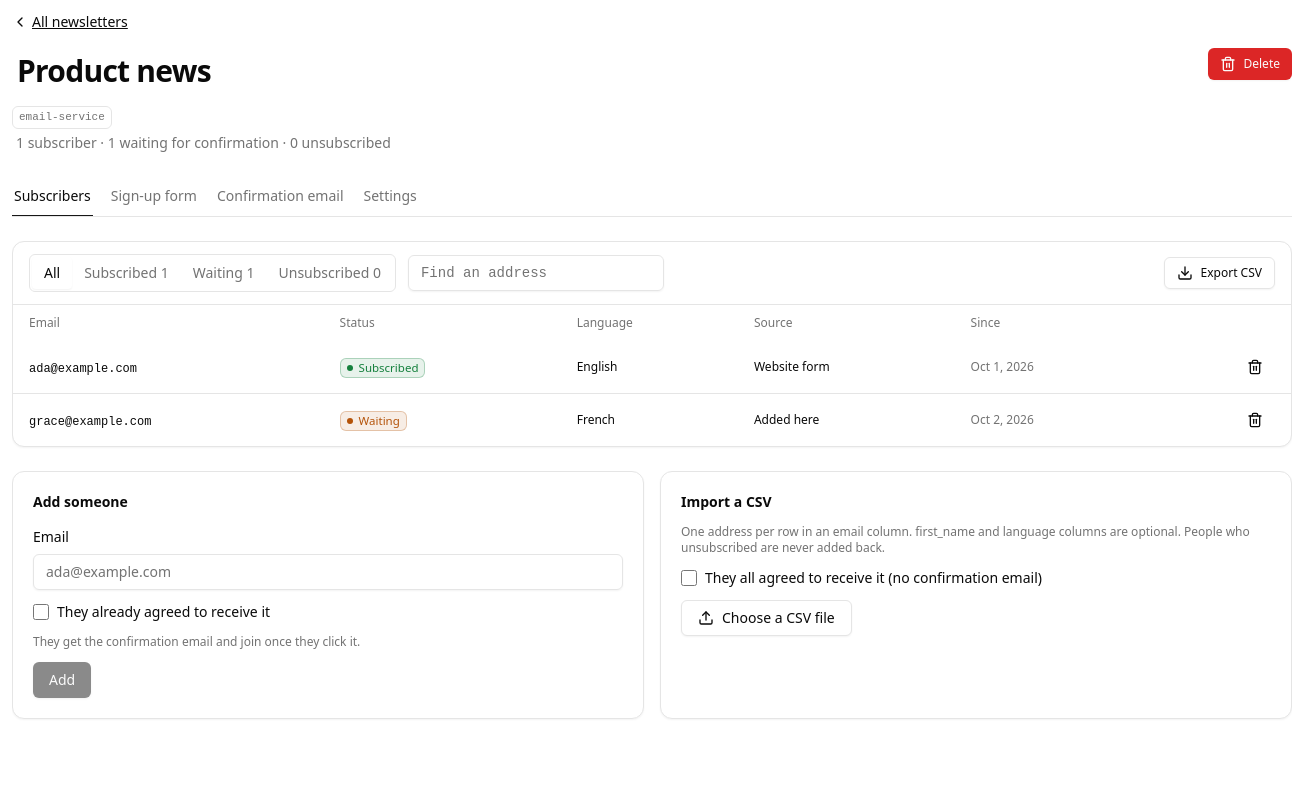
Test: EmailNewsletterPage › lists subscribers and adds someone with a confirmation email
Expected: the text "ada@example.com" is shown, left=29, top=362, right=137, bottom=376
Expected: the text "grace@example.com" is shown, left=29, top=414, right=151, bottom=428
Type "linus@example.com" into the field labelled "Email" at (328,572), box left=33, top=554, right=623, bottom=590
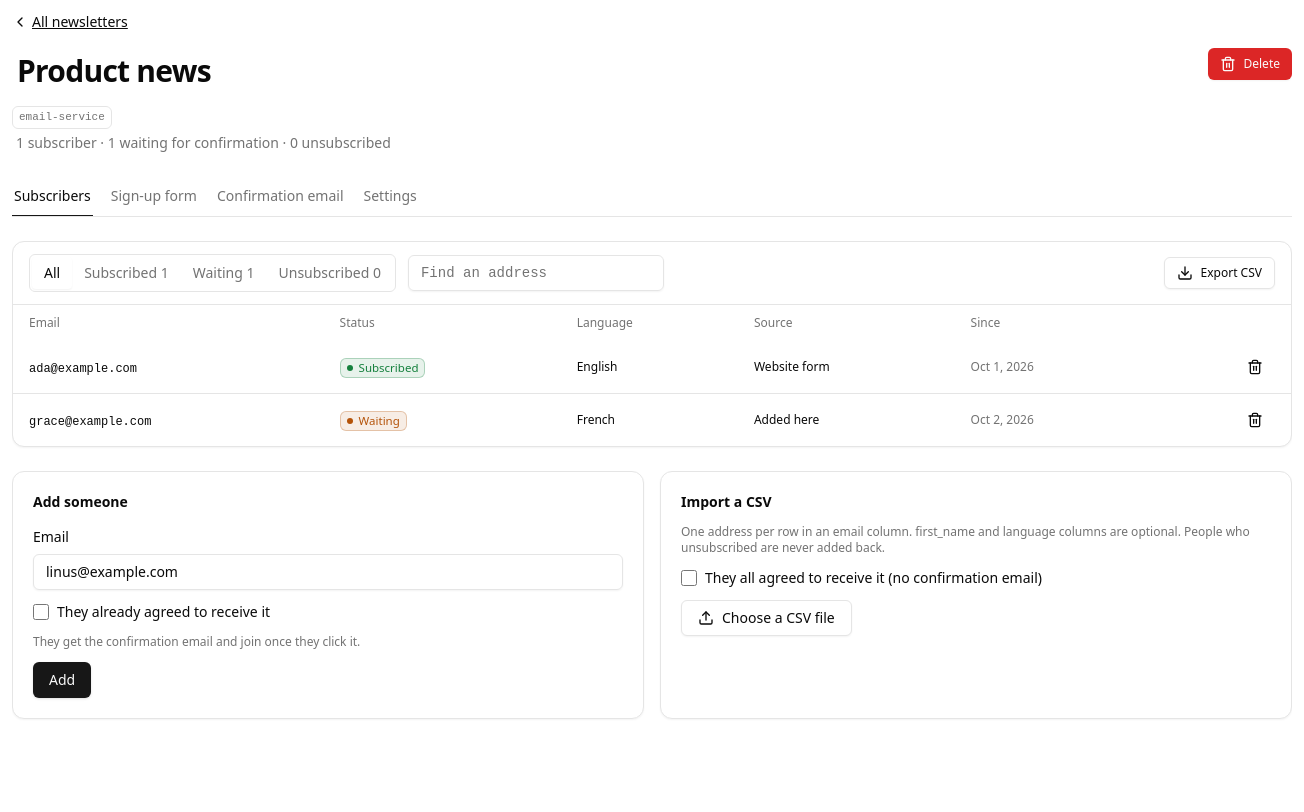
Click the button "Add" at (62,680), box left=33, top=662, right=91, bottom=698
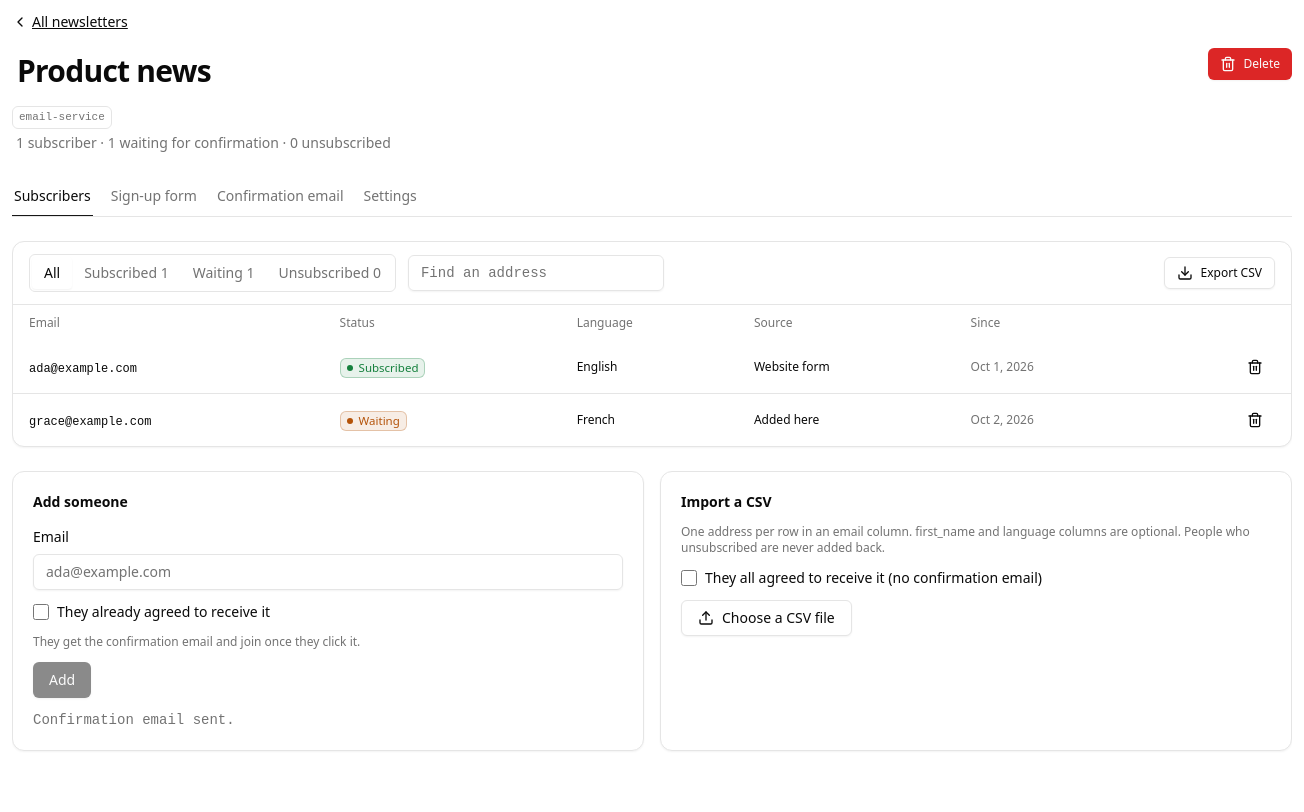
Expected: the text "Confirmation email sent." is shown, left=33, top=712, right=235, bottom=728
